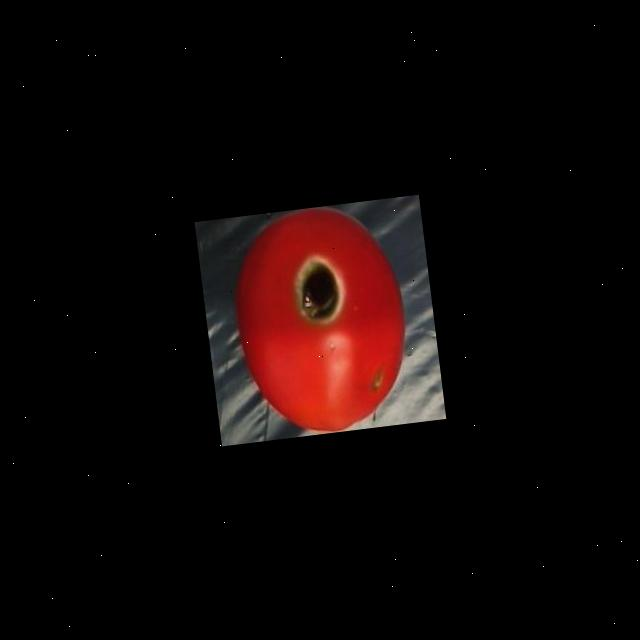tomato: (220, 197, 423, 443)
